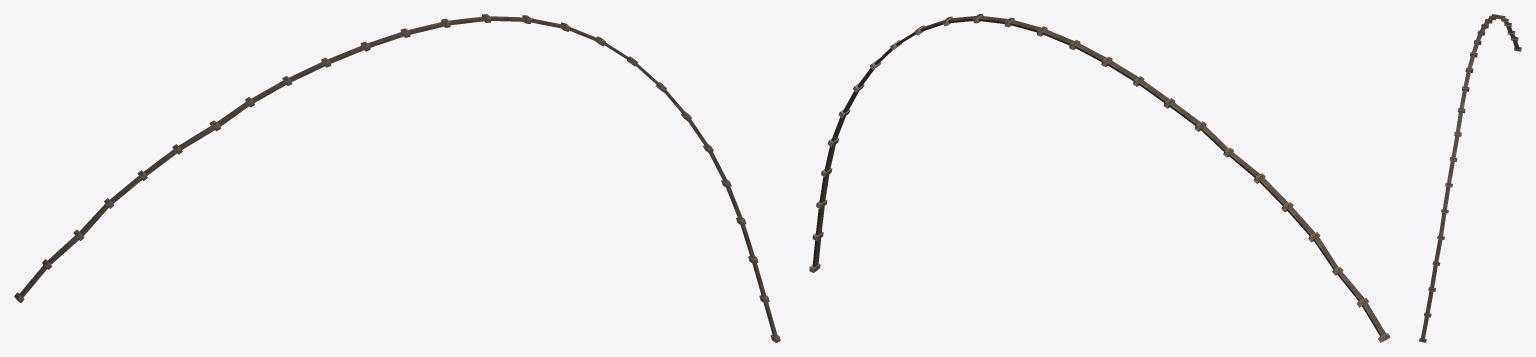
3 views of the same model, side by side, from view 1: azimuth 30°, elevation 25°; view 2: azimuth 150°, elevation 25°; view 3: azimuth 270°, elevation 25° (orthographic). The views are drawn at different scales.
Bounding box in the file's own units: 45.49 × 22.69 × 9.71.
Materials: 1 (1 with a texture image).
